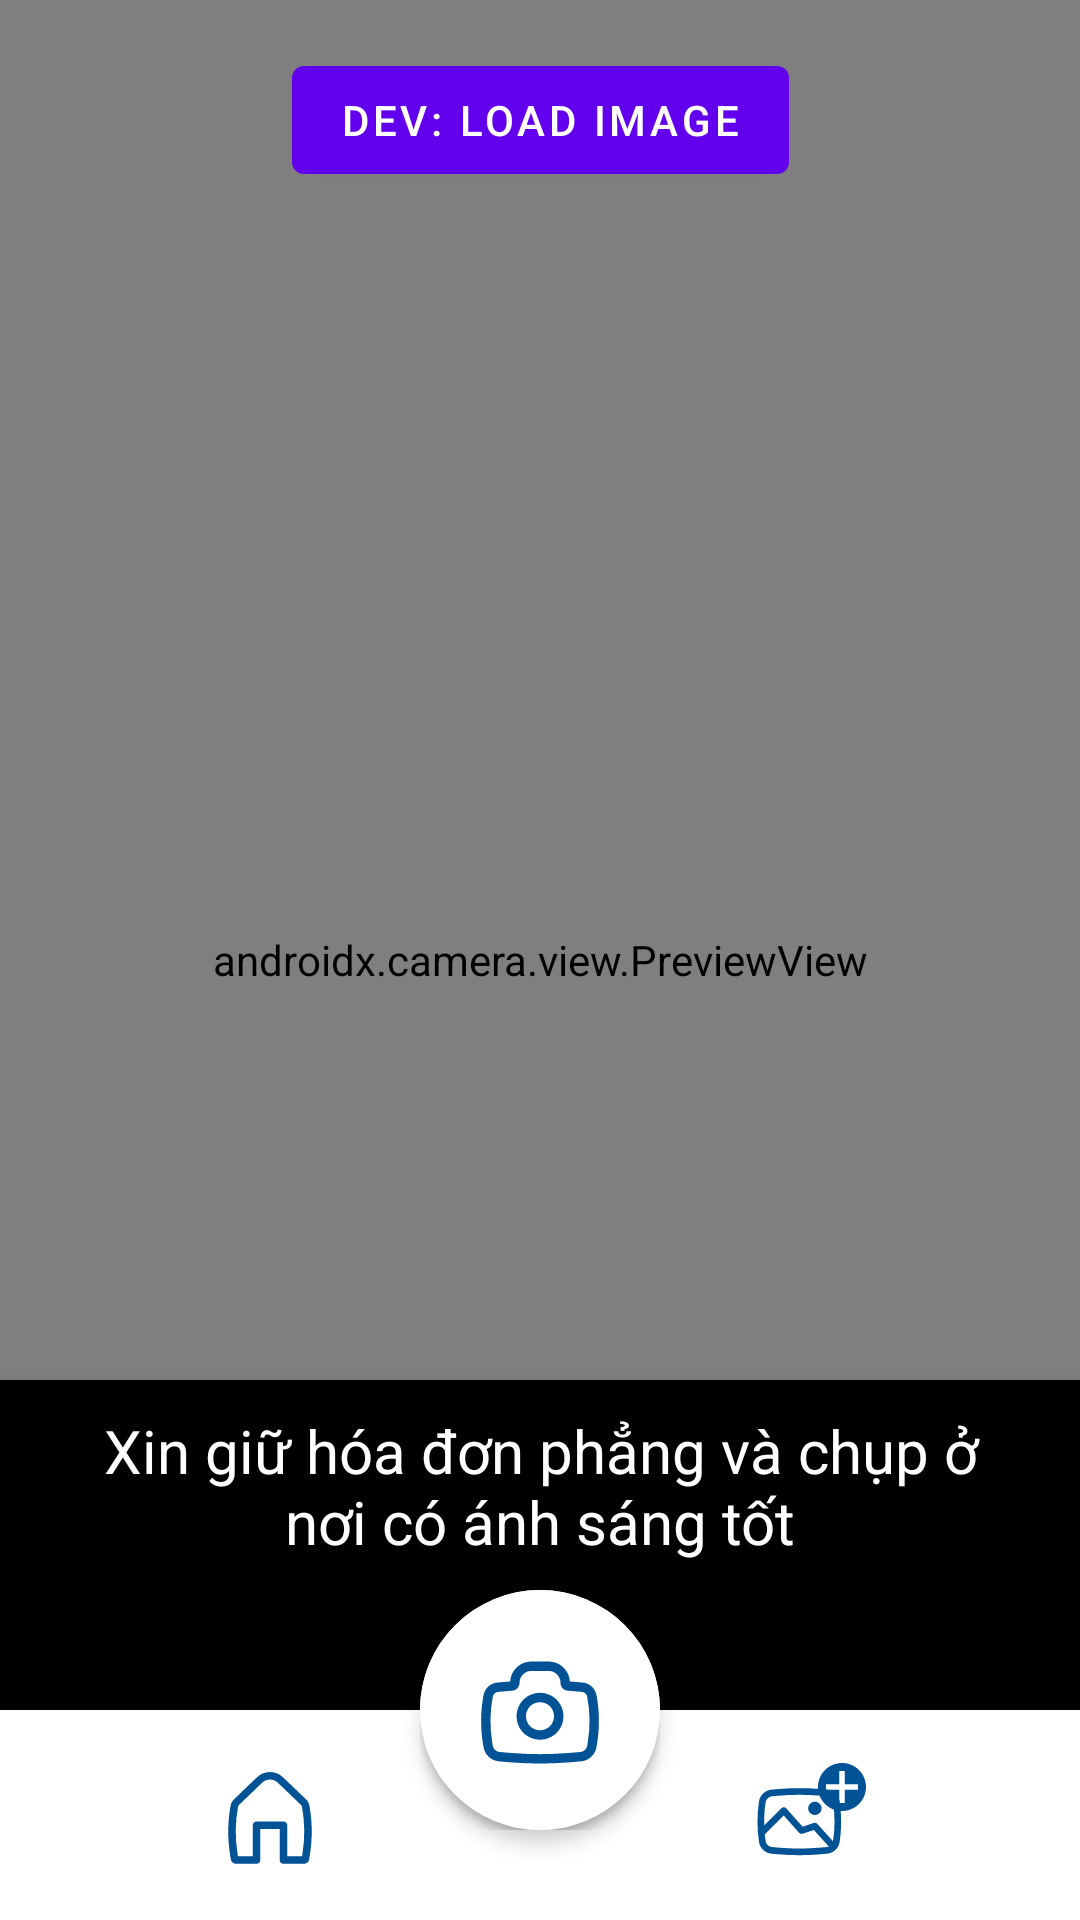

Screen size 1080 × 1920. Icon name, then its box in pixels as bbox=(x1, y1, x2, y2):
add: bbox=(757, 1763, 866, 1856)
camerafitus: bbox=(481, 1661, 599, 1764)
homefitus: bbox=(228, 1772, 312, 1864)
